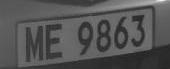3: (129, 12, 149, 51)
6: (112, 13, 132, 52)
8: (94, 17, 113, 54)
9: (76, 17, 94, 56)
E: (44, 22, 65, 61)
M: (22, 21, 45, 67)
